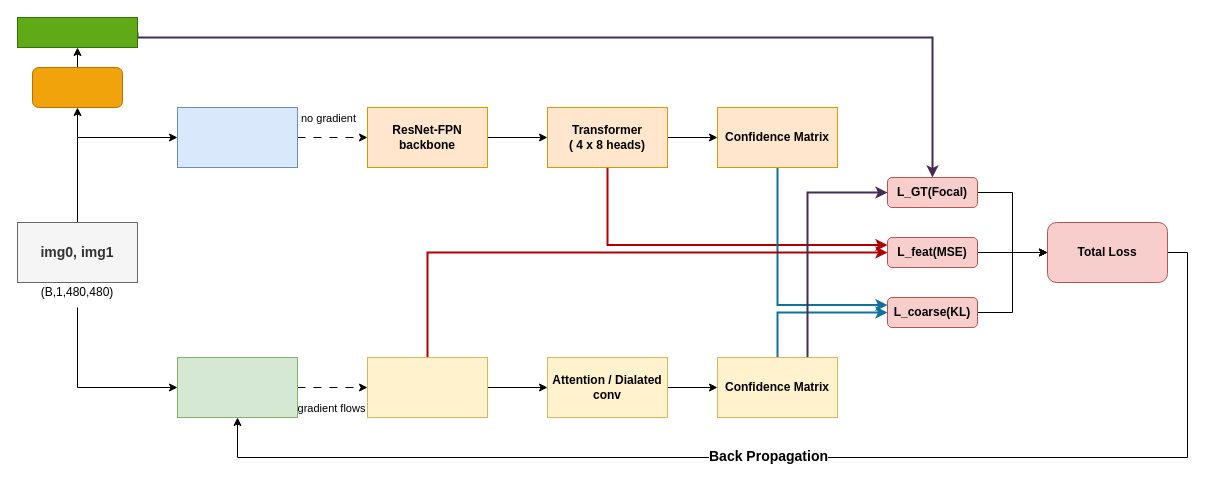
The diagram is 1213 pixels wide and 483 high, and some of its shapes have lost their labels. The shapes that lost their labels are listed below. From the top down, each one's box as (x1, y1, x2, y2) in pixels, then its label:
(16, 16, 138, 48): Ground Truth Matrix
(32, 66, 122, 108): Homography Matrix
(176, 106, 298, 168): LofTR(Frozen)
(176, 356, 298, 418): Student(Trainable)
(366, 356, 488, 418): MobileNetV3 backbone
